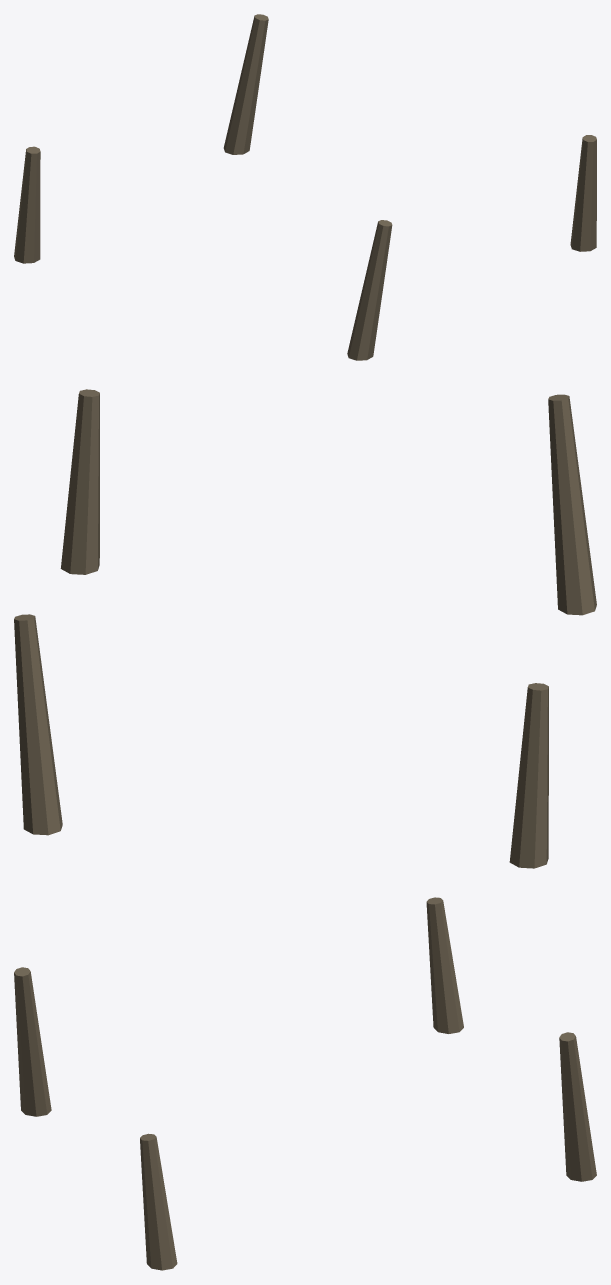
Rendered from flowers_3_winter.glb.
The picture shows the model from 3 angles, top to bottom: view 1: azimuth 30°, elevation 25°; view 2: azimuth 150°, elevation 25°; view 3: azimuth 270°, elevation 25°; orthographic projection. The views are drawn at different scales.
Parts seen in each view (by area): view 1: flowers_3_winter; view 2: flowers_3_winter; view 3: flowers_3_winter.
Part boxes in pixels (x1,y1,x2,y2): flowers_3_winter: [14, 14, 596, 360]; flowers_3_winter: [14, 389, 596, 868]; flowers_3_winter: [14, 897, 596, 1270].
Size of the model in its own units: 0.844 by 0.237 by 0.8339.
